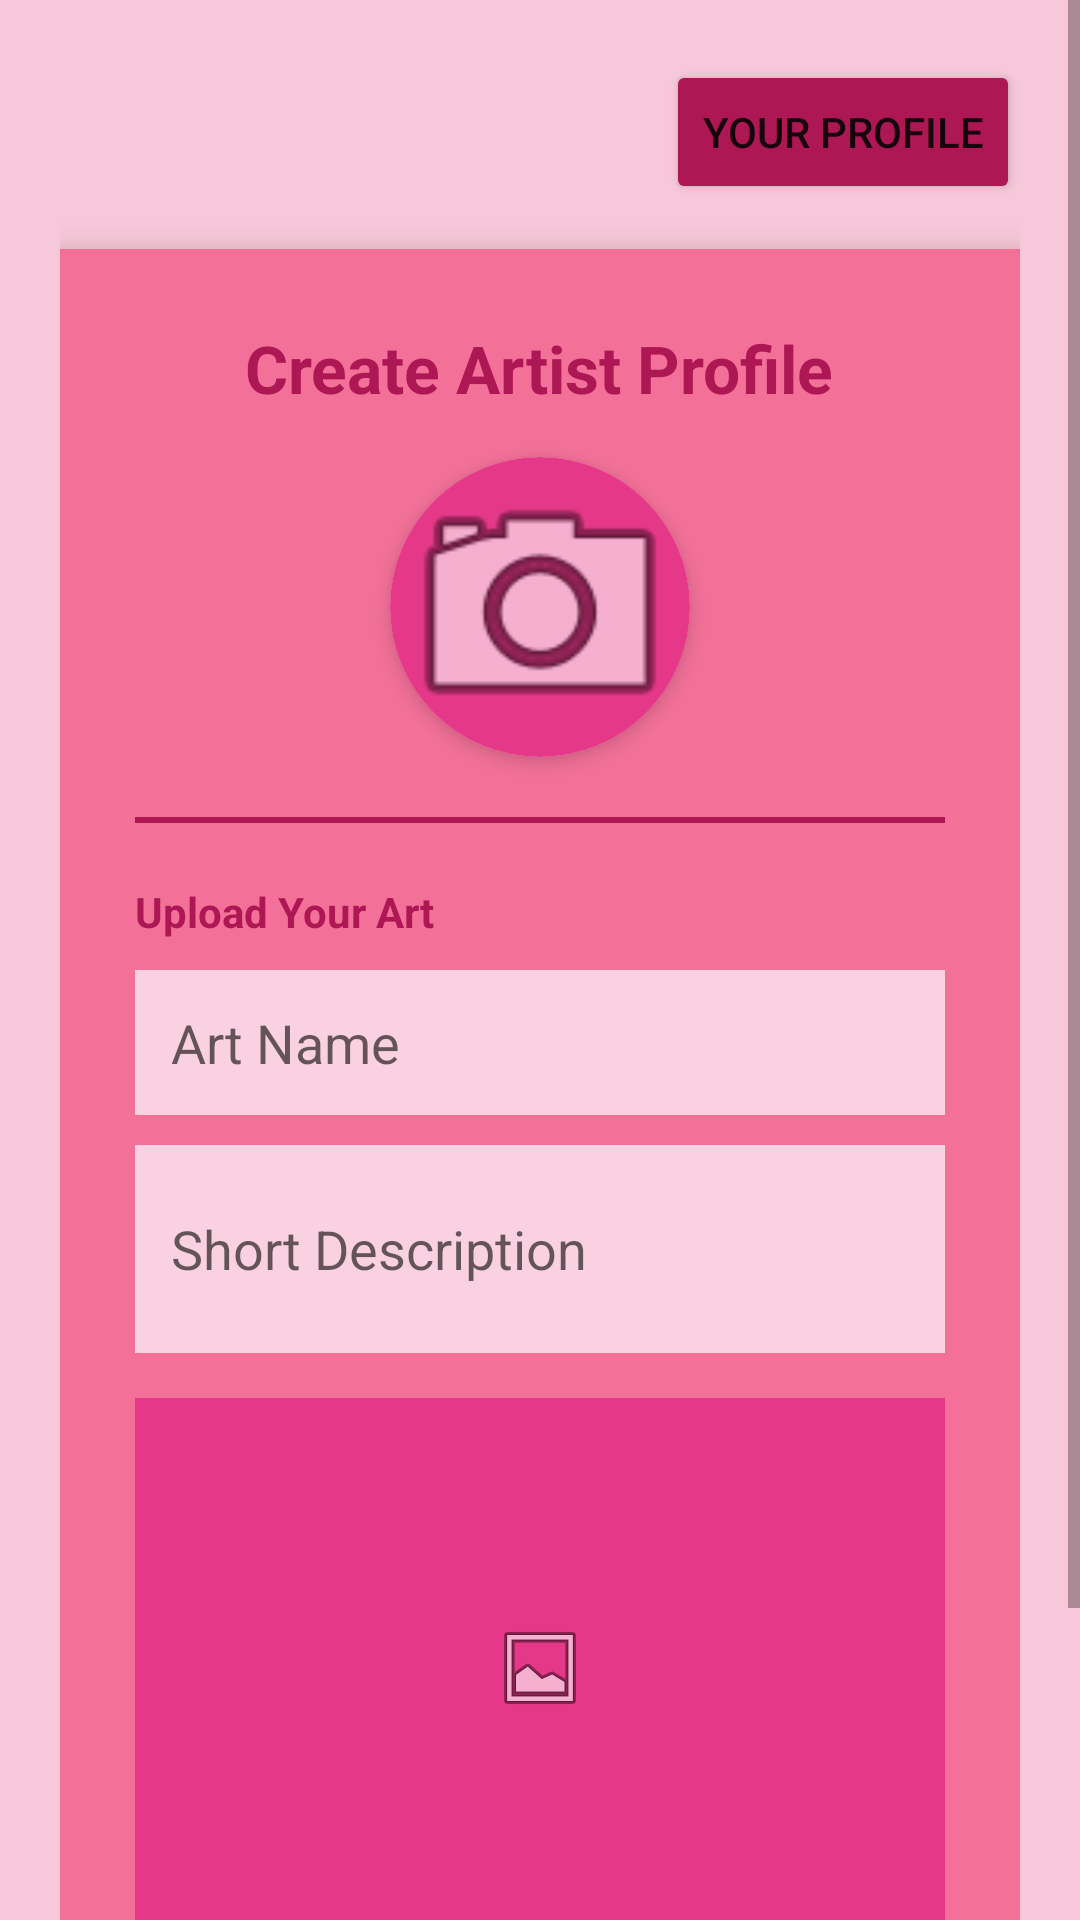

Where to tap for icons on this 1080x1920 app screen, as [x,y]:
camera: [540,607]
